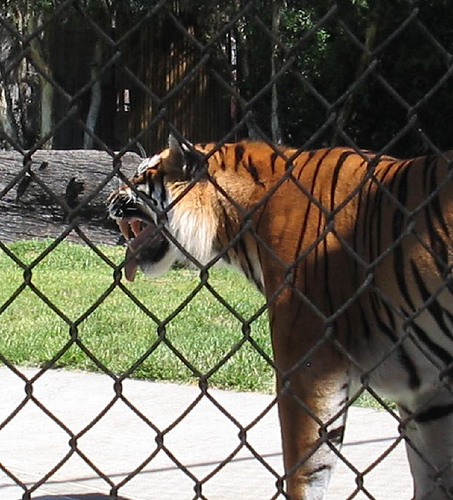Tigre: (100, 110, 452, 369)
